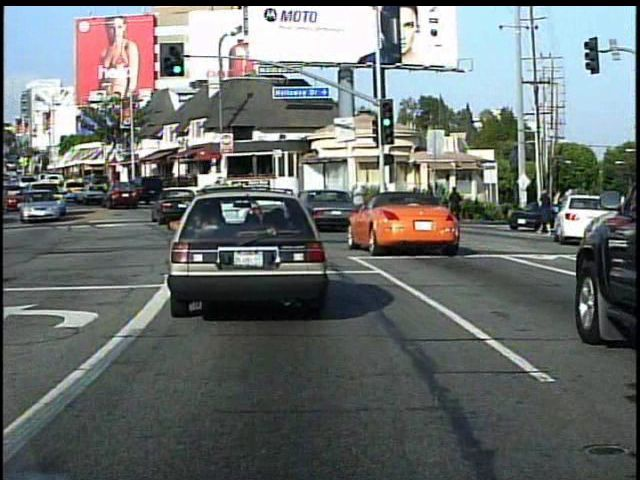person: (534, 180, 557, 240), (447, 183, 465, 228)
